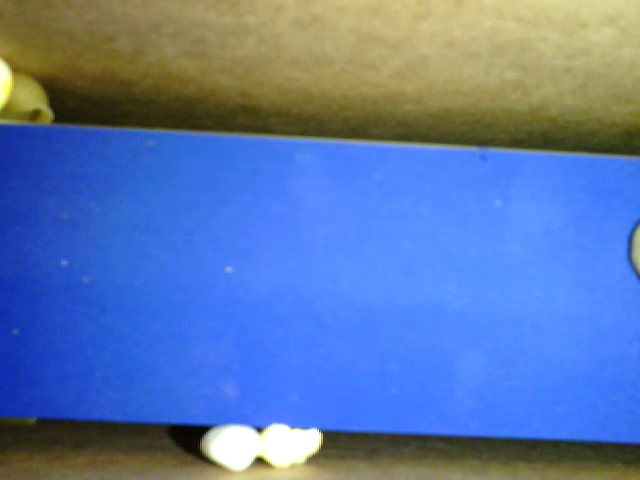shell: (1, 70, 61, 127)
